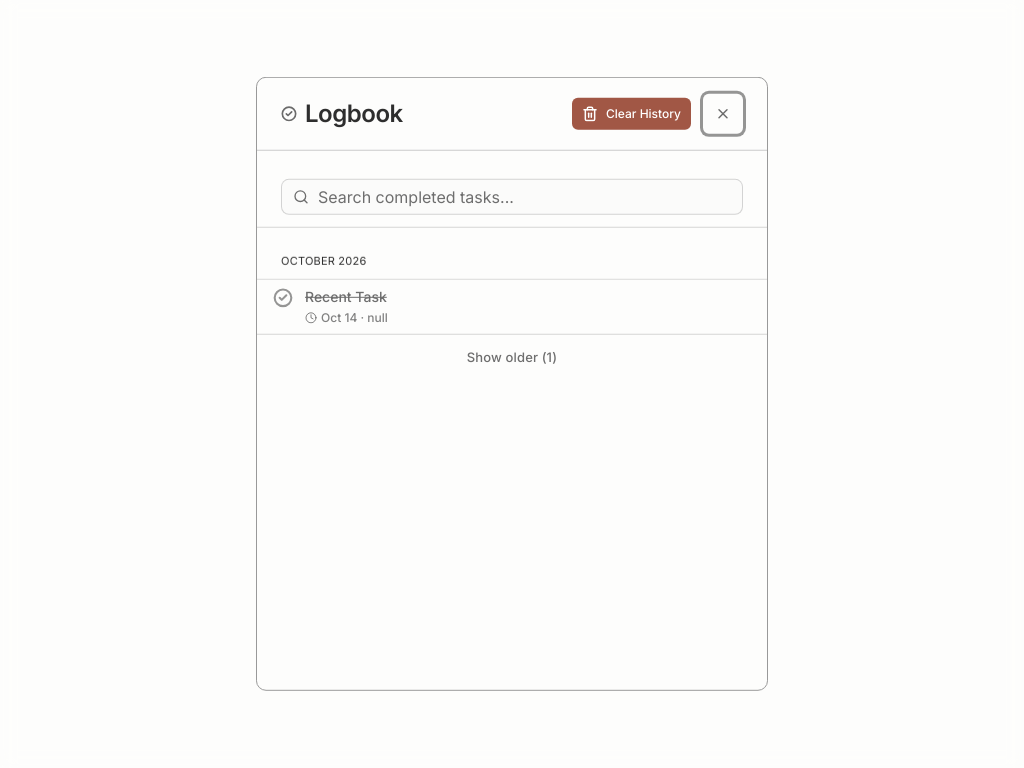
Test: CompletedTasksSheet (Logbook) › keeps tasks older than 30 days behind Show older, with their date
Expected: the text "Recent Task" is shown, left=305, top=288, right=387, bottom=305
Expected: the text "Old Task" is not shown
Click the button "Show older (1)". click: (512, 357)
box: left=257, top=334, right=767, bottom=379
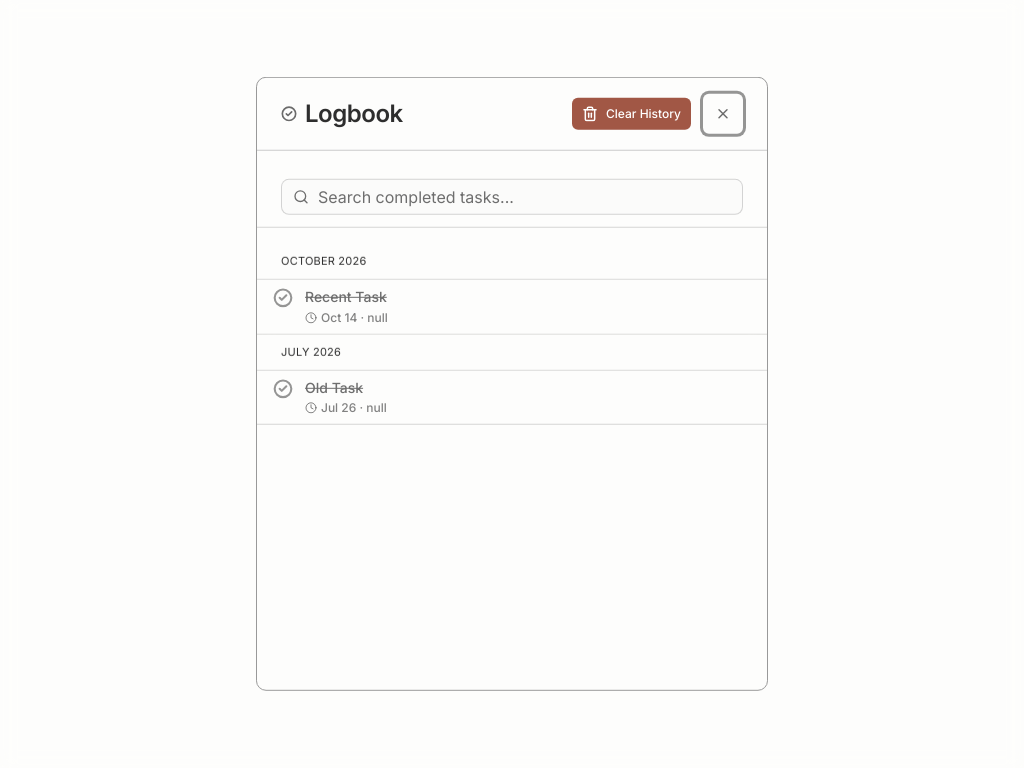
Now the text "Old Task" is shown, box left=305, top=378, right=363, bottom=395
